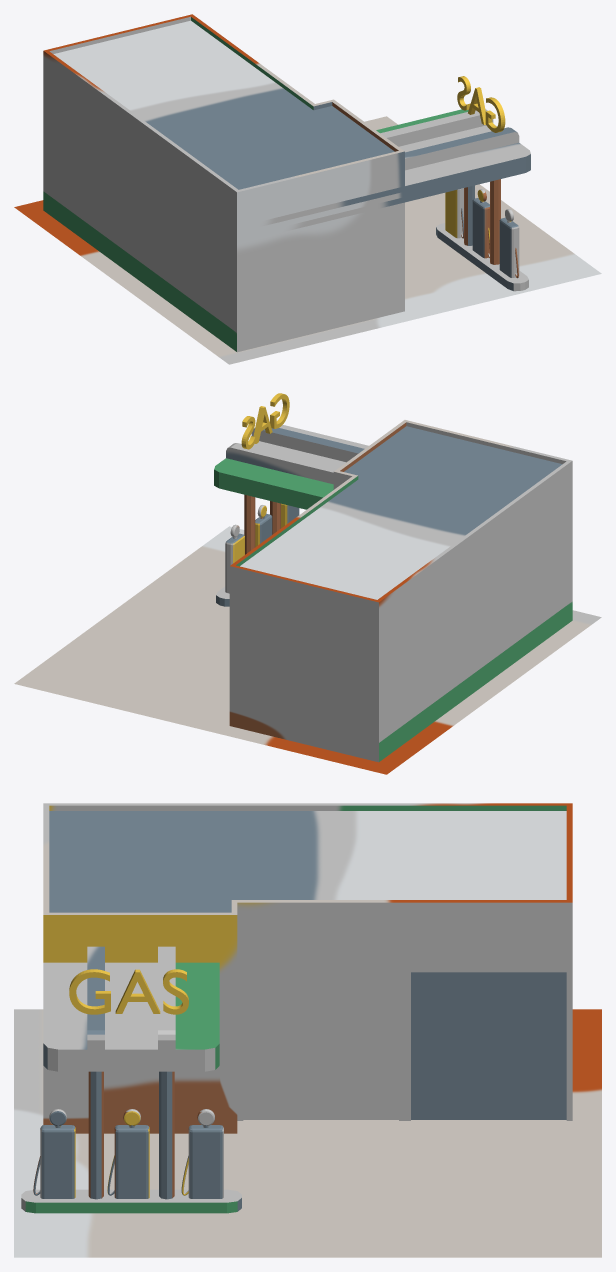
Rendered from Gas Station (1).fbx.
3 views of the same model, one above another, from view 1: azimuth 30°, elevation 25°; view 2: azimuth 150°, elevation 25°; view 3: azimuth 270°, elevation 25° (orthographic). The views are drawn at different scales.
Visible parts, largest first — view 1: Cube.002, Cube.001; view 2: Cube.002, Cube.001; view 3: Cube.002, Cube.001.
Boxes of the visible parts, x1,y1,x2,y2 form: Cube.002: [43, 14, 530, 352]; Cube.001: [14, 116, 601, 364]; Cube.002: [214, 393, 572, 762]; Cube.001: [14, 526, 601, 774]; Cube.002: [21, 803, 572, 1213]; Cube.001: [14, 1009, 601, 1257].
Size of the model in its own units: 2 by 2 by 0.8809.
1 material, 1 textured.
